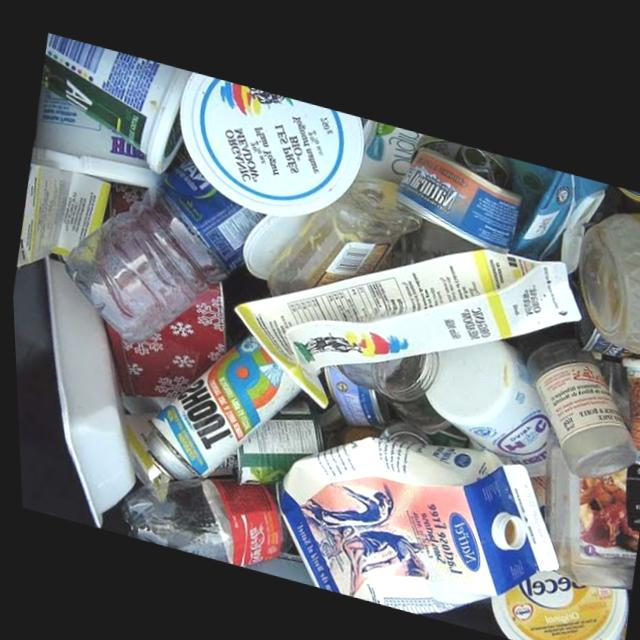glass: (332, 342, 435, 393)
metal: (141, 331, 298, 477), (396, 125, 520, 240), (233, 385, 319, 479), (320, 358, 386, 419)
paper: (232, 239, 579, 402), (273, 428, 552, 606), (507, 147, 608, 262)
plastic: (63, 139, 264, 340), (178, 67, 363, 210), (40, 32, 190, 169), (264, 171, 419, 289), (422, 329, 547, 466), (523, 327, 633, 466), (119, 474, 284, 563), (29, 84, 157, 184), (486, 559, 624, 640), (576, 198, 640, 339)
styrofoam: (43, 255, 132, 525)
